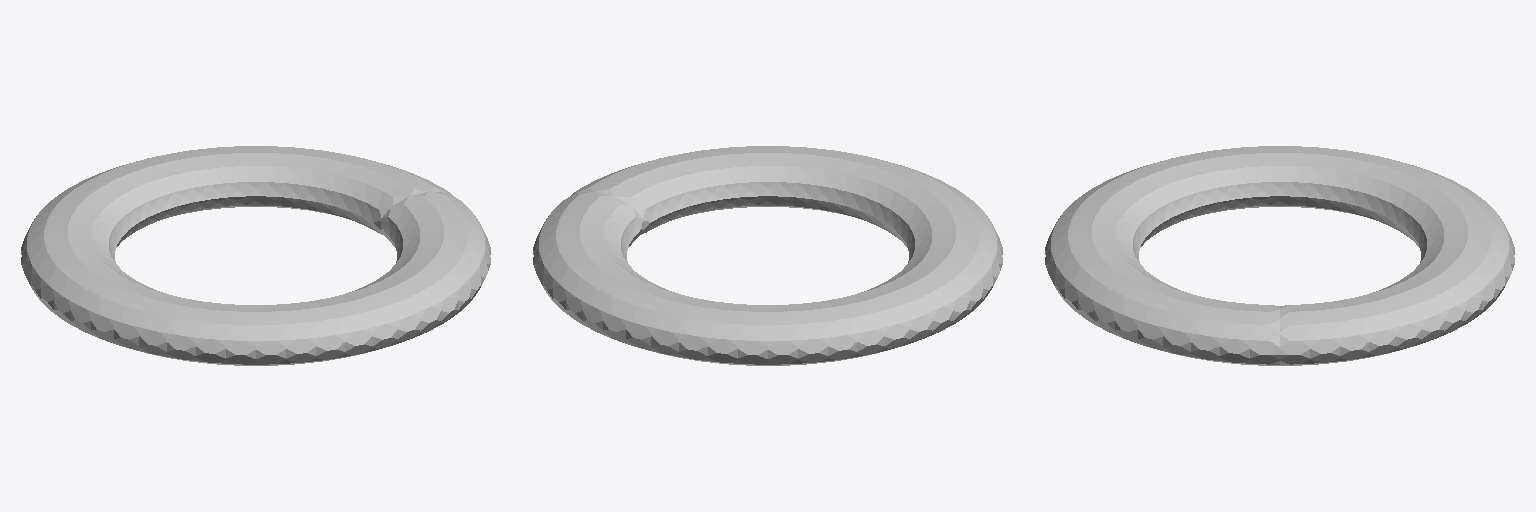
The model's file is hextorus.obj.
3 views of the same model, side by side, from view 1: azimuth 30°, elevation 25°; view 2: azimuth 150°, elevation 25°; view 3: azimuth 270°, elevation 25° (orthographic).
Parts seen in each view (by area): view 1: Torus; view 2: Torus; view 3: Torus.
Part boxes in pixels (x1,y1,x2,y2): Torus: (21,146,490,365); Torus: (533,146,1002,365); Torus: (1045,146,1514,365).
Bounding box in the file's own units: 0.9472 × 0.105 × 0.9472.